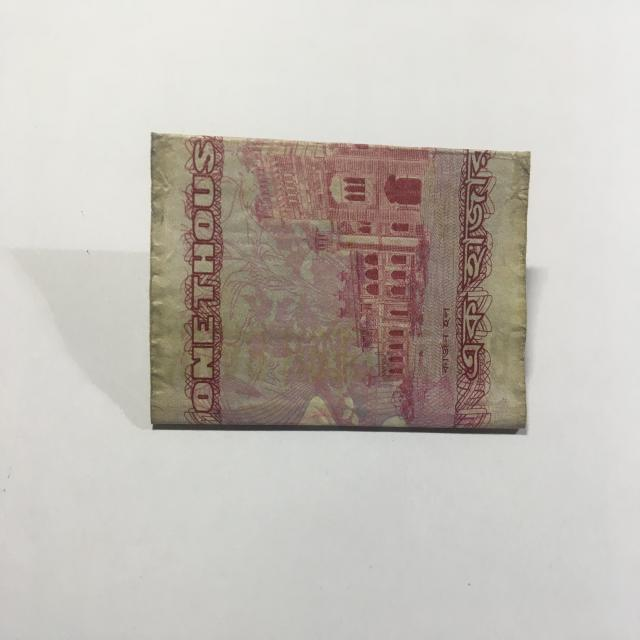Taka: (144, 126, 535, 437)
